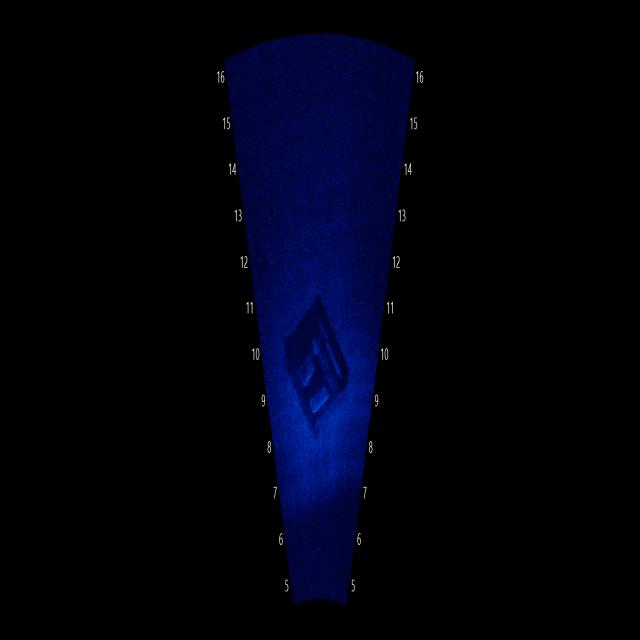square: (273, 268, 358, 442)
